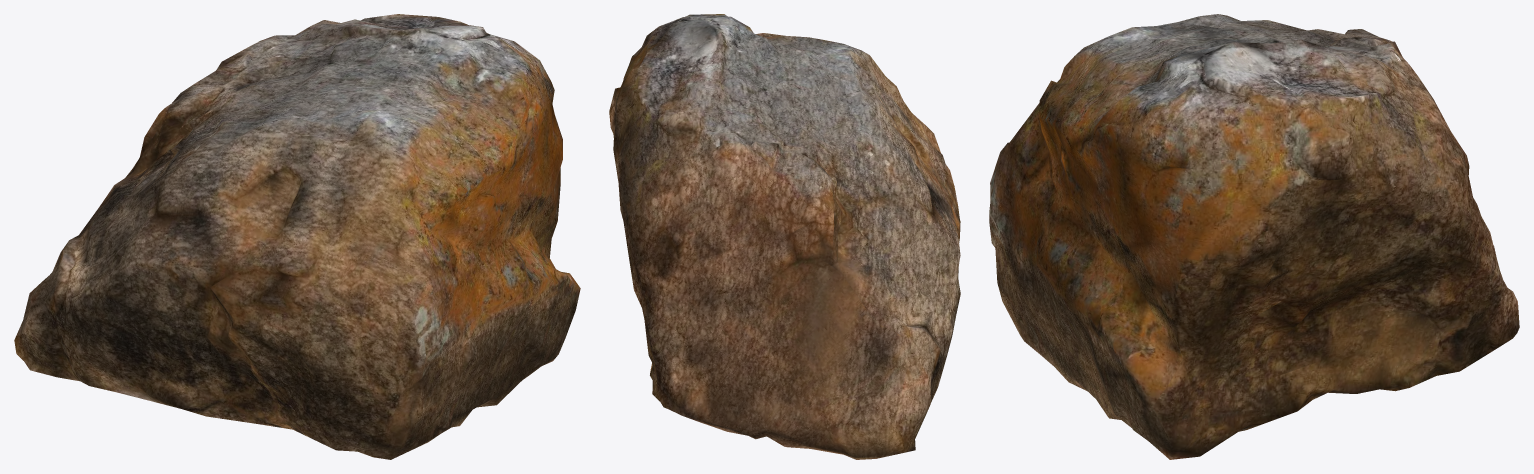
The model's file is boulder_c.glb.
3 renders of one model, left to right at view 1: azimuth 30°, elevation 25°; view 2: azimuth 150°, elevation 25°; view 3: azimuth 270°, elevation 25°, orthographic. The views are drawn at different scales.
Parts seen in each view (by area): view 1: boulder_04; view 2: boulder_04; view 3: boulder_04.
Boxes of the visible parts, <box> form: boulder_04: <box>14,14,580,459</box>; boulder_04: <box>609,14,960,459</box>; boulder_04: <box>989,14,1519,459</box>.
Size of the model in its own units: 2.52 by 1.89 by 2.48.
Materials: 1 (1 with a texture image).
